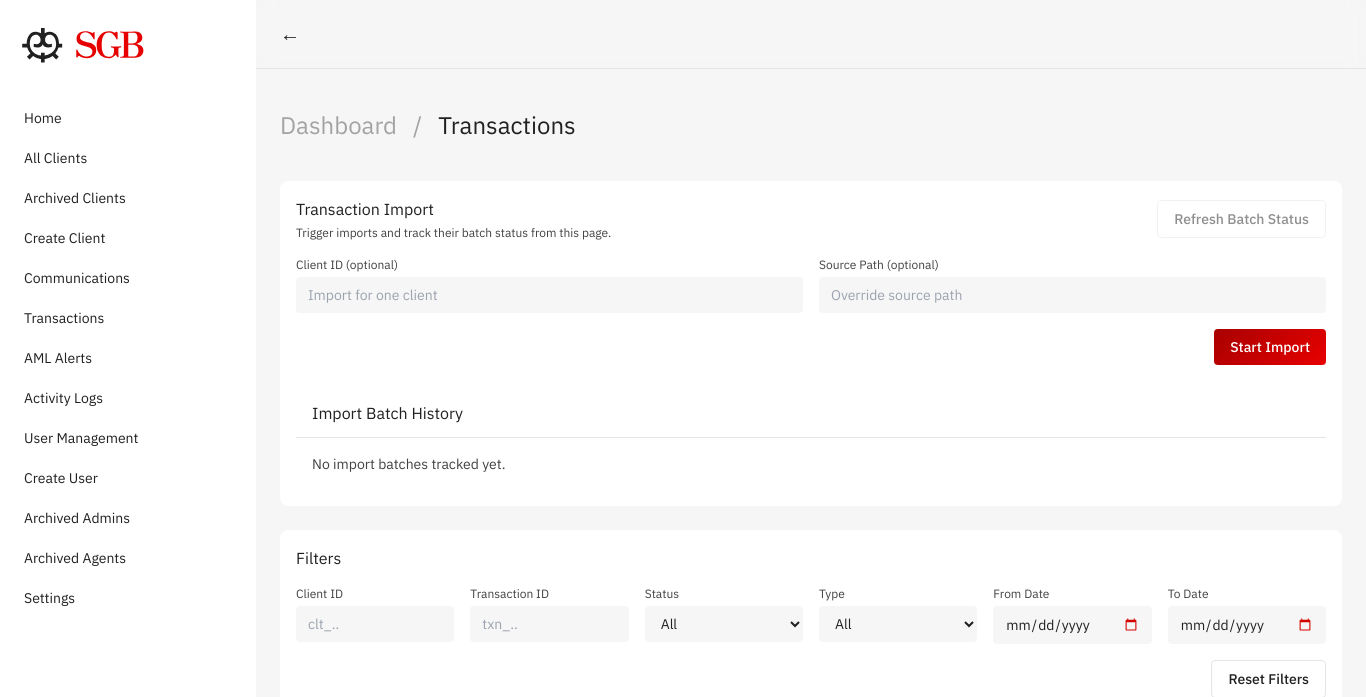
Test: ViewTransactionsPage › shows import controls for admin and starts import without payload
Check: the element with test id "transaction-import-panel" is shown, box [280,181,1342,506]
Click the button "Start Import" at {"x": 1270, "y": 347}, box [1214,329,1326,365]
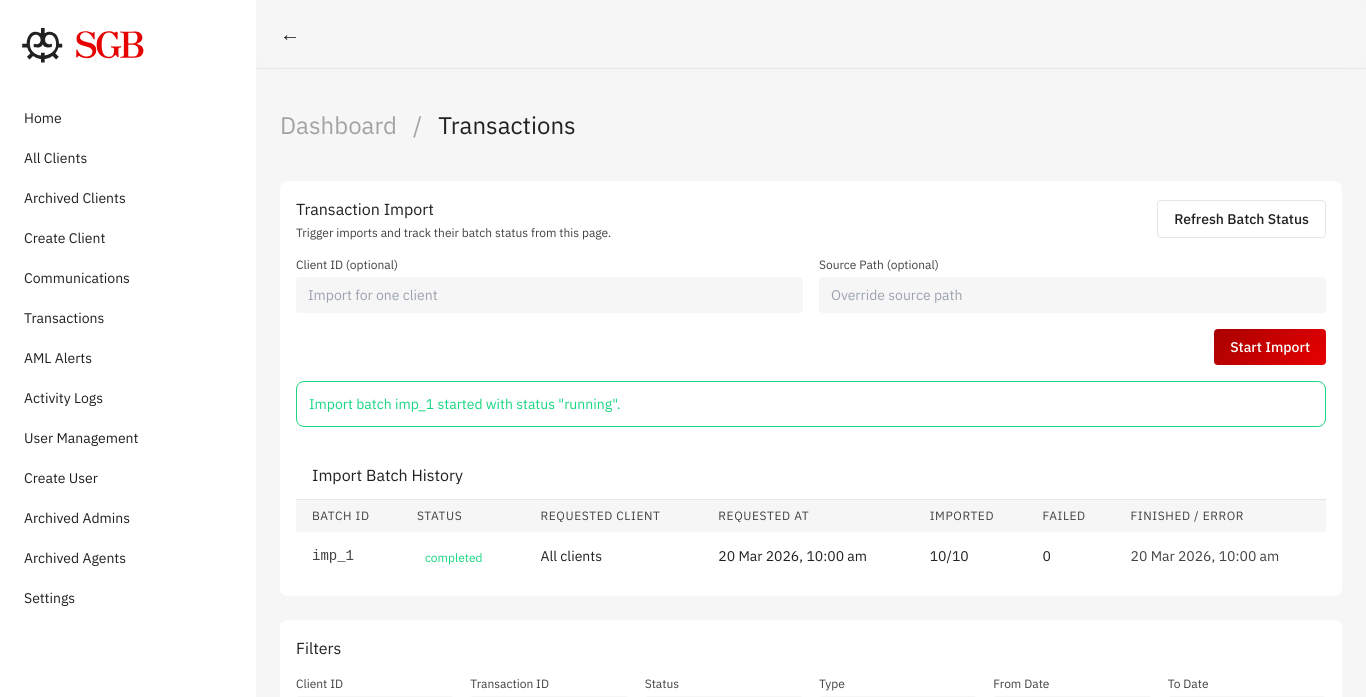
Check: the text "Import batch imp_1 started with status \"running\"." is shown, box [309,395,620,413]
Check: the text "imp_1" is shown, box [296,532,401,580]
